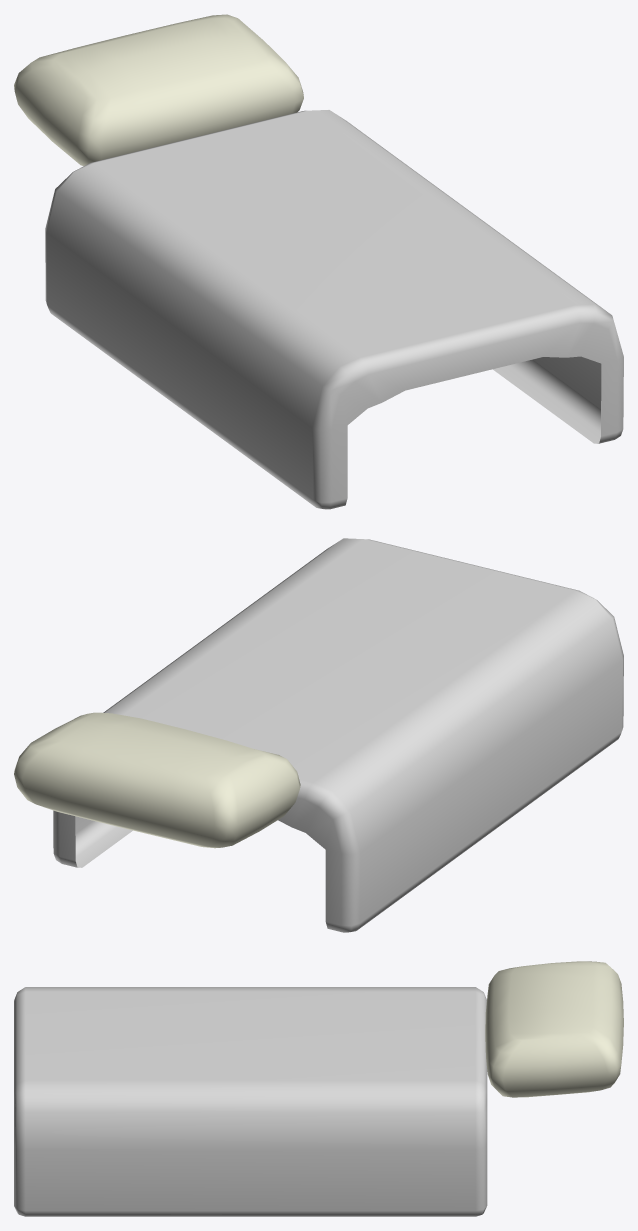
File: Cover2_Single.fbx
3 views of the same model, one above another, from view 1: azimuth 30°, elevation 25°; view 2: azimuth 150°, elevation 25°; view 3: azimuth 270°, elevation 25° (orthographic). The views are drawn at different scales.
Visible parts, largest first — view 1: Cover2_Single; view 2: Cover2_Single; view 3: Cover2_Single.
Part boxes in pixels (x1,y1,x2,y2): Cover2_Single: (14,14,623,509); Cover2_Single: (14,538,623,932); Cover2_Single: (14,961,623,1216).
Bounding box in the file's own units: 0.9921 × 0.6006 × 1.99.
